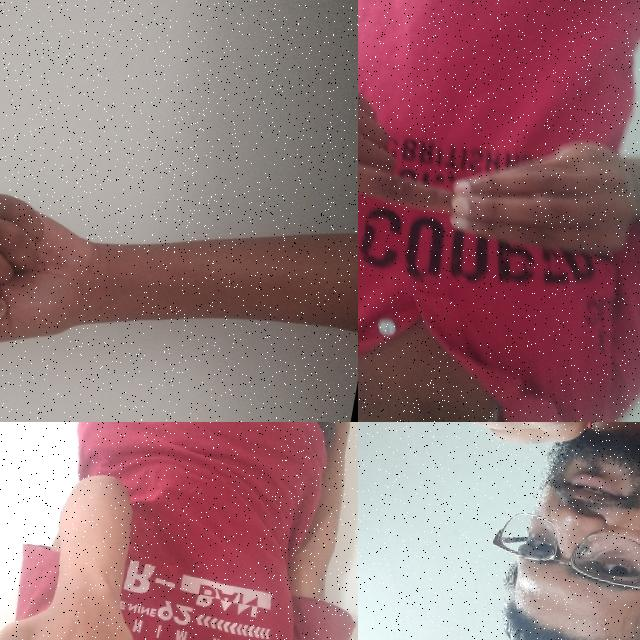Dulya: (0, 165, 134, 366)
Fist Mouth: (379, 422, 640, 640)
Five Fathers: (358, 46, 640, 326)
Moutza: (0, 553, 182, 640)
